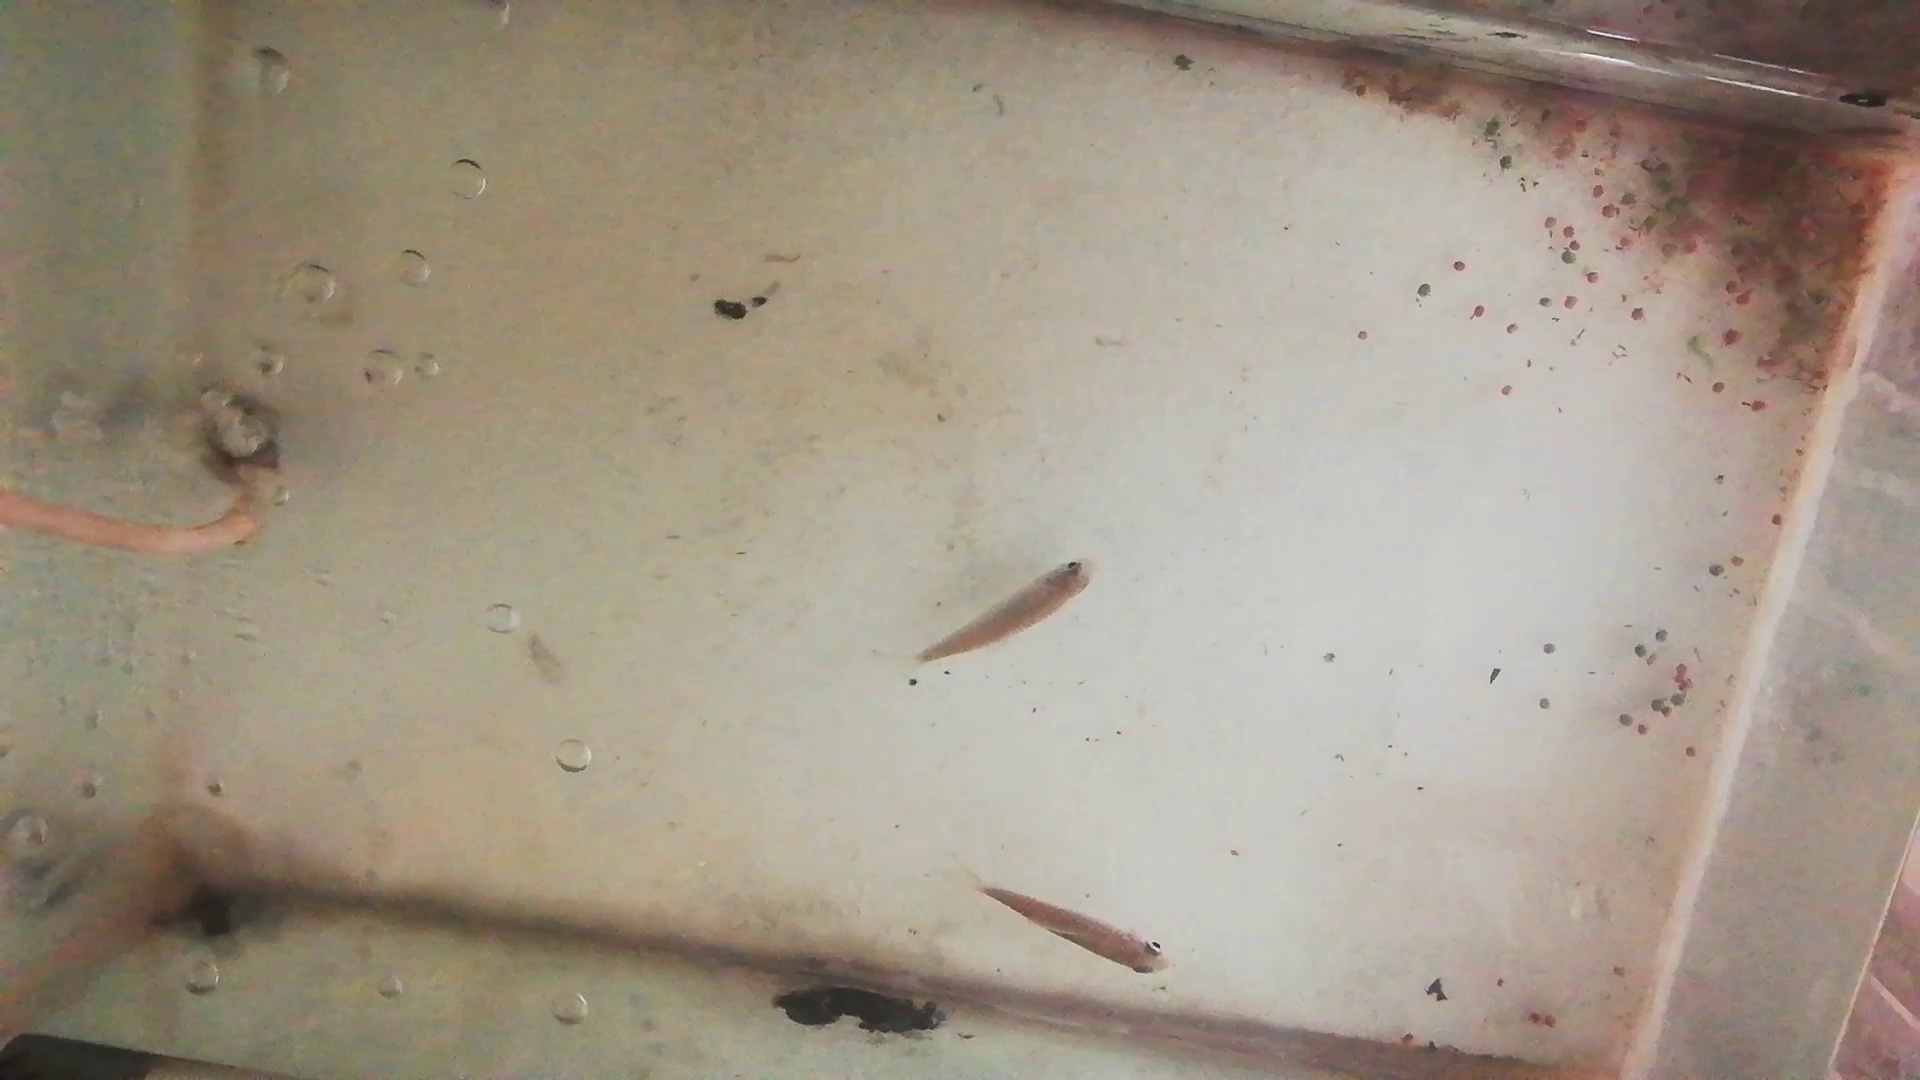fish: (916, 559, 1098, 659), (980, 885, 1174, 976)
